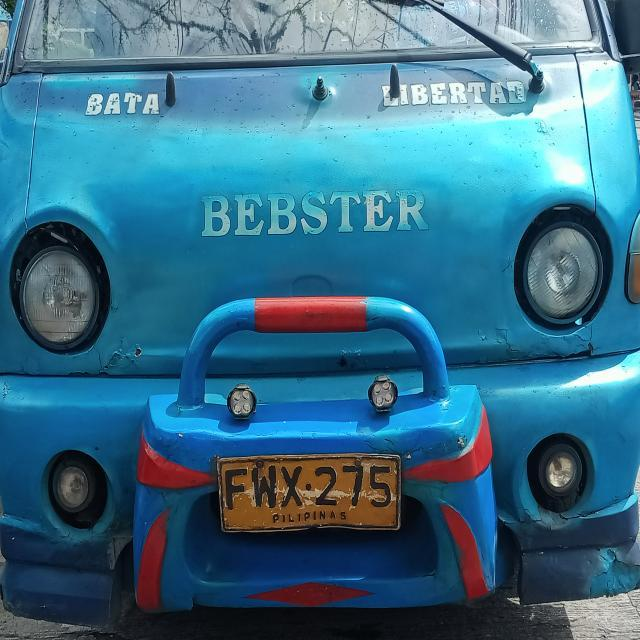LicensePlate: (210, 445, 405, 536)
